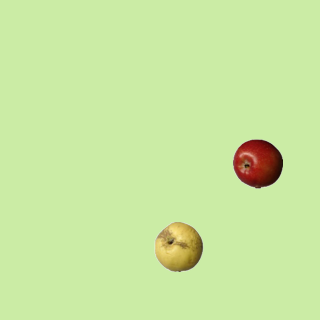Apple Braeburn: (232, 138, 282, 188)
Apple Golden 1: (153, 221, 203, 271)
